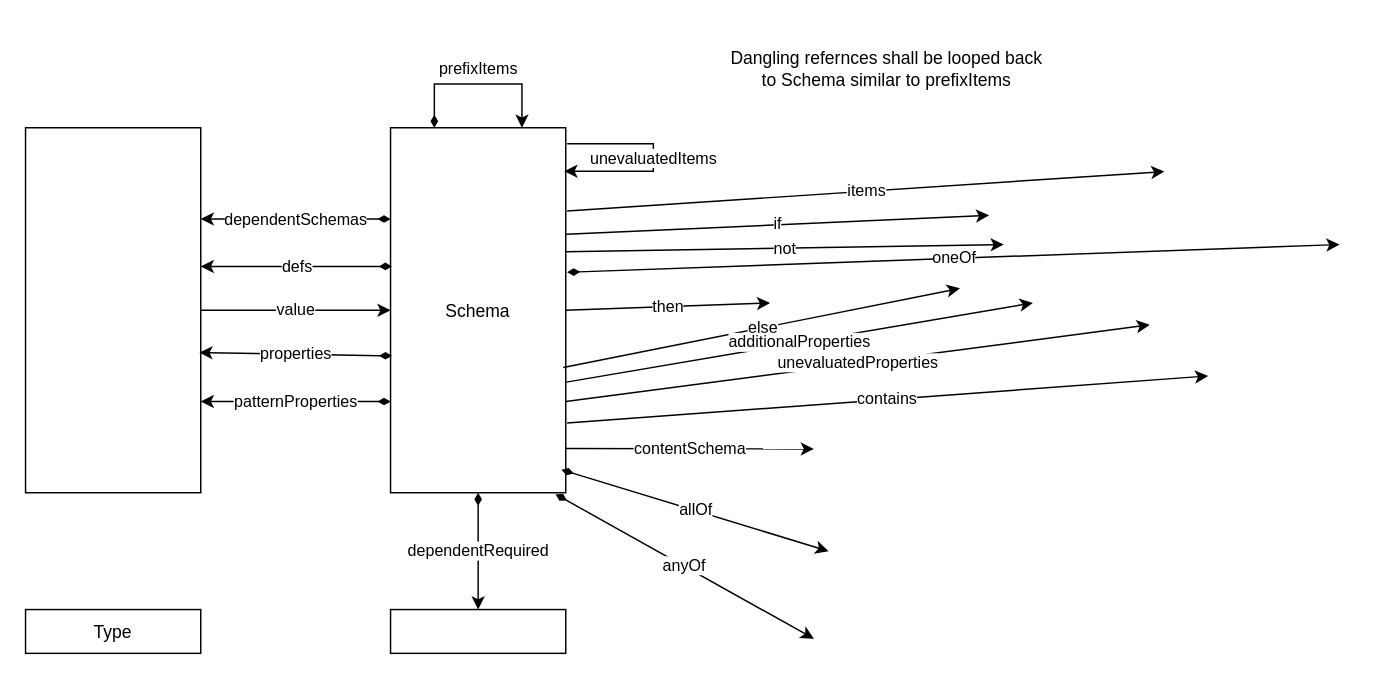
Some shapes in this 1378 by 679 pixel diagram are drawn without their labels. The shapes that lost their labels are listed below. From the top down, each one's centre as x and y in pixels, then its label:
point (112, 309): SchemaEntry
point (477, 630): StringListEntry
